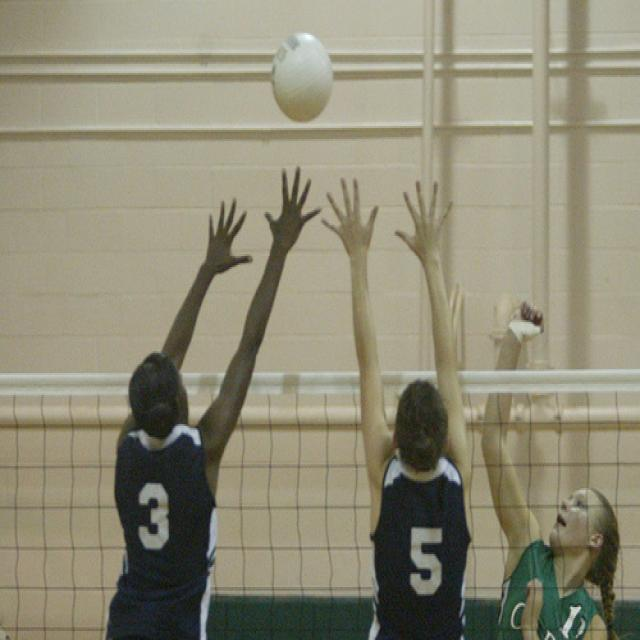volleyball: (272, 34, 332, 119)
